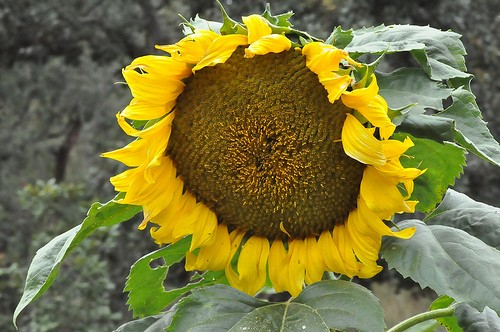flower: (95, 12, 430, 293)
